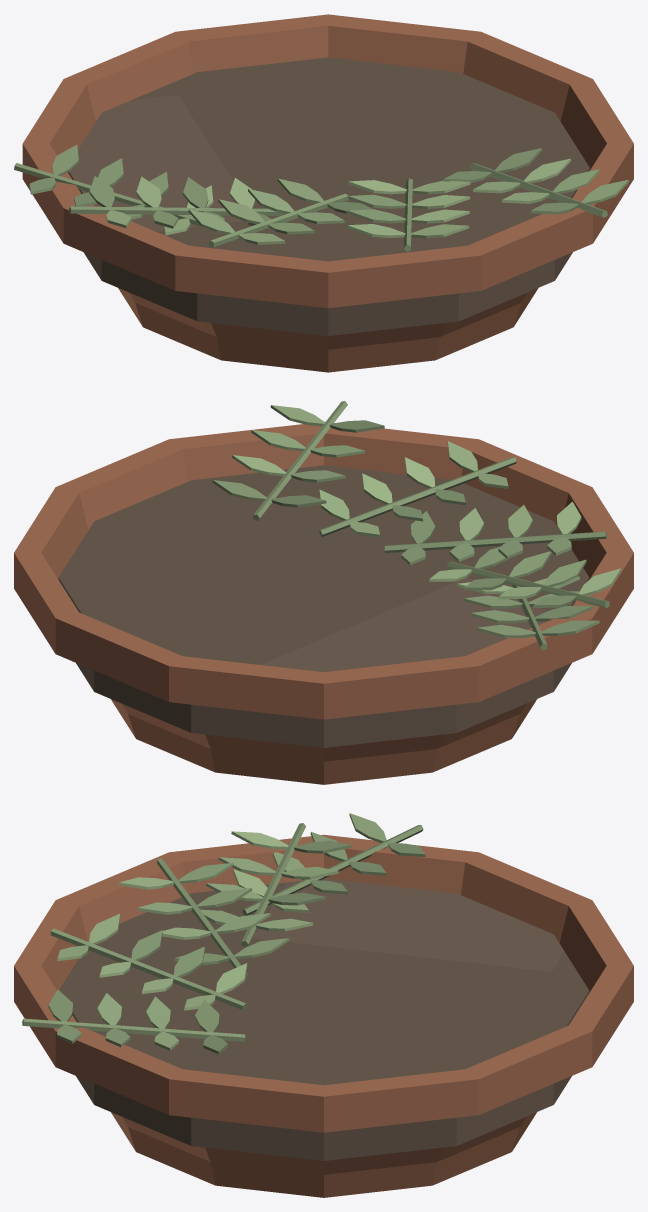
Rendered from moss-taxifolius.glb.
The picture shows the model from 3 angles, top to bottom: view 1: azimuth 30°, elevation 25°; view 2: azimuth 150°, elevation 25°; view 3: azimuth 270°, elevation 25°; orthographic projection.
Visible parts, largest first — view 1: moss-taxifolius/review-rooted-soil, moss-taxifolius/review-terra-vessel, moss-taxifolius/moss-axis-010, moss-taxifolius/moss-axis-019, moss-taxifolius/moss-axis-037, moss-taxifolius/moss-axis-001, moss-taxifolius/two-row-moss-leaf-026, moss-taxifolius/two-row-moss-leaf-022, moss-taxifolius/two-row-moss-leaf-039, moss-taxifolius/two-row-moss-leaf-041, moss-taxifolius/two-row-moss-leaf-020, moss-taxifolius/two-row-moss-leaf-024 (+15 smaller); view 2: moss-taxifolius/review-rooted-soil, moss-taxifolius/review-terra-vessel, moss-taxifolius/moss-axis-028, moss-taxifolius/moss-axis-019, moss-taxifolius/moss-axis-010, moss-taxifolius/moss-axis-037, moss-taxifolius/two-row-moss-leaf-043, moss-taxifolius/two-row-moss-leaf-039, moss-taxifolius/two-row-moss-leaf-041, moss-taxifolius/two-row-moss-leaf-045, moss-taxifolius/two-row-moss-leaf-016, moss-taxifolius/two-row-moss-leaf-018 (+14 smaller); view 3: moss-taxifolius/review-rooted-soil, moss-taxifolius/review-terra-vessel, moss-taxifolius/moss-axis-028, moss-taxifolius/moss-axis-037, moss-taxifolius/moss-axis-001, moss-taxifolius/moss-axis-019, moss-taxifolius/moss-axis-010, moss-taxifolius/two-row-moss-leaf-026, moss-taxifolius/two-row-moss-leaf-020, moss-taxifolius/two-row-moss-leaf-022, moss-taxifolius/two-row-moss-leaf-024, moss-taxifolius/two-row-moss-leaf-018 (+11 smaller).
Boxes of the visible parts, box(x1,y1,x2,y2) form: moss-taxifolius/review-rooted-soil: box(68, 57, 589, 336); moss-taxifolius/review-terra-vessel: box(22, 14, 633, 372); moss-taxifolius/moss-axis-010: box(69, 206, 283, 216); moss-taxifolius/moss-axis-019: box(208, 193, 348, 247); moss-taxifolius/moss-axis-037: box(470, 163, 607, 217); moss-taxifolius/moss-axis-001: box(14, 163, 201, 226); moss-taxifolius/two-row-moss-leaf-026: box(188, 209, 234, 234); moss-taxifolius/two-row-moss-leaf-022: box(248, 189, 294, 213); moss-taxifolius/two-row-moss-leaf-039: box(495, 148, 542, 172); moss-taxifolius/two-row-moss-leaf-041: box(524, 158, 570, 183); moss-taxifolius/two-row-moss-leaf-020: box(277, 178, 323, 203); moss-taxifolius/two-row-moss-leaf-024: box(218, 199, 264, 224); moss-taxifolius/review-rooted-soil: box(58, 465, 589, 747); moss-taxifolius/review-terra-vessel: box(14, 421, 633, 784); moss-taxifolius/moss-axis-028: box(319, 457, 516, 536); moss-taxifolius/moss-axis-019: box(384, 531, 606, 552); moss-taxifolius/moss-axis-010: box(447, 561, 609, 608); moss-taxifolius/moss-axis-037: box(253, 401, 347, 520); moss-taxifolius/two-row-moss-leaf-043: box(251, 430, 305, 451); moss-taxifolius/two-row-moss-leaf-039: box(212, 480, 266, 501); moss-taxifolius/two-row-moss-leaf-041: box(232, 455, 285, 476); moss-taxifolius/two-row-moss-leaf-045: box(270, 405, 324, 426); moss-taxifolius/two-row-moss-leaf-016: box(544, 559, 586, 586); moss-taxifolius/two-row-moss-leaf-018: box(578, 568, 621, 595); moss-taxifolius/review-rooted-soil: box(59, 878, 589, 1160); moss-taxifolius/review-terra-vessel: box(14, 834, 633, 1197); moss-taxifolius/moss-axis-028: box(50, 928, 246, 1009); moss-taxifolius/moss-axis-037: box(22, 1018, 245, 1041); moss-taxifolius/moss-axis-001: box(242, 825, 423, 915); moss-taxifolius/moss-axis-019: box(157, 858, 247, 978); moss-taxifolius/moss-axis-010: box(241, 823, 305, 947); moss-taxifolius/two-row-moss-leaf-026: box(178, 863, 233, 883); moss-taxifolius/two-row-moss-leaf-020: box(234, 938, 289, 958); moss-taxifolius/two-row-moss-leaf-022: box(215, 913, 270, 933); moss-taxifolius/two-row-moss-leaf-024: box(197, 888, 252, 908); moss-taxifolius/two-row-moss-leaf-018: box(231, 831, 288, 849).
Bounding box in the file's own units: 0.2595 × 0.0678 × 0.25.
Materials: 3 (3 with a texture image).
